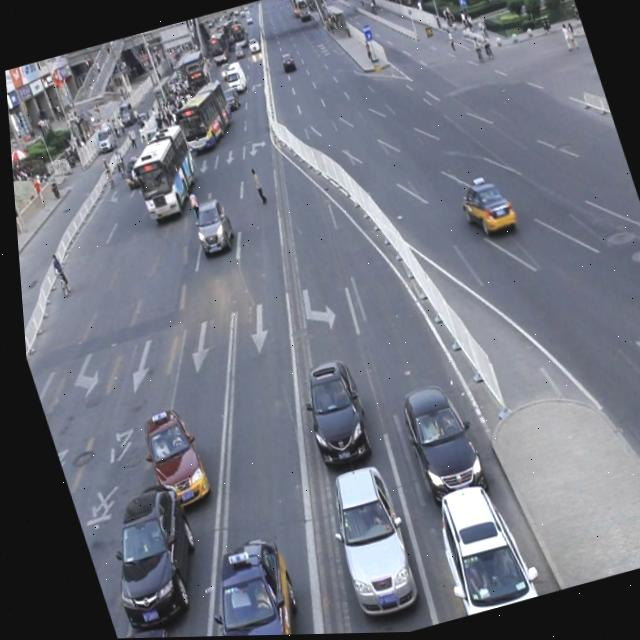car: (79, 475, 209, 632), (306, 455, 417, 621), (415, 473, 530, 619), (175, 525, 303, 637), (387, 376, 484, 507), (283, 353, 371, 470), (126, 400, 207, 511), (450, 175, 515, 242), (182, 195, 235, 258), (104, 620, 177, 639)
van: (119, 122, 205, 223)
